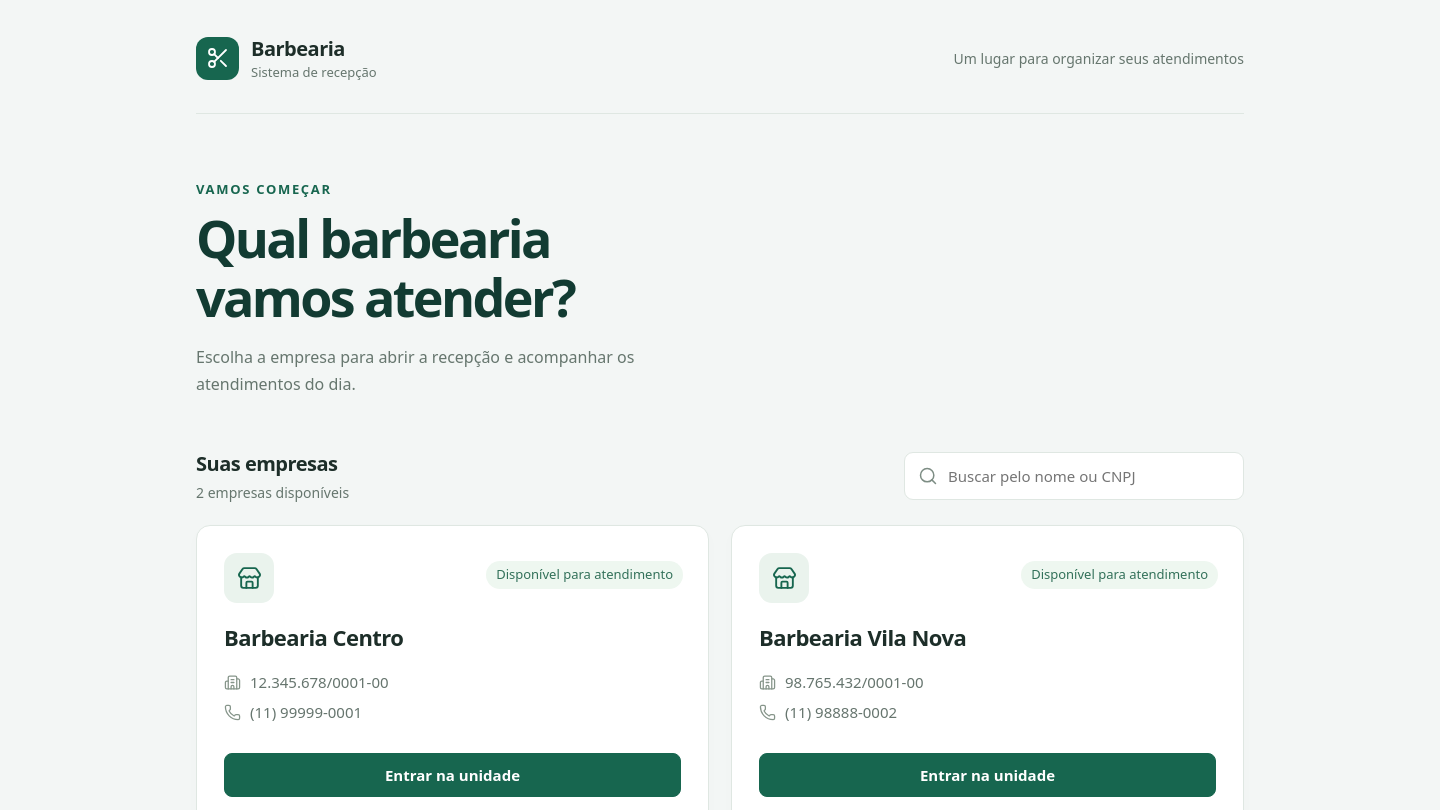
Test: Entrada e contexto de empresa › permite recuperar o painel após falha de leitura sem perder o filtro
Click the button with aria-label "Entrar na empresa Barbearia Centro".
click(452, 775)  # box [224, 753, 681, 797]
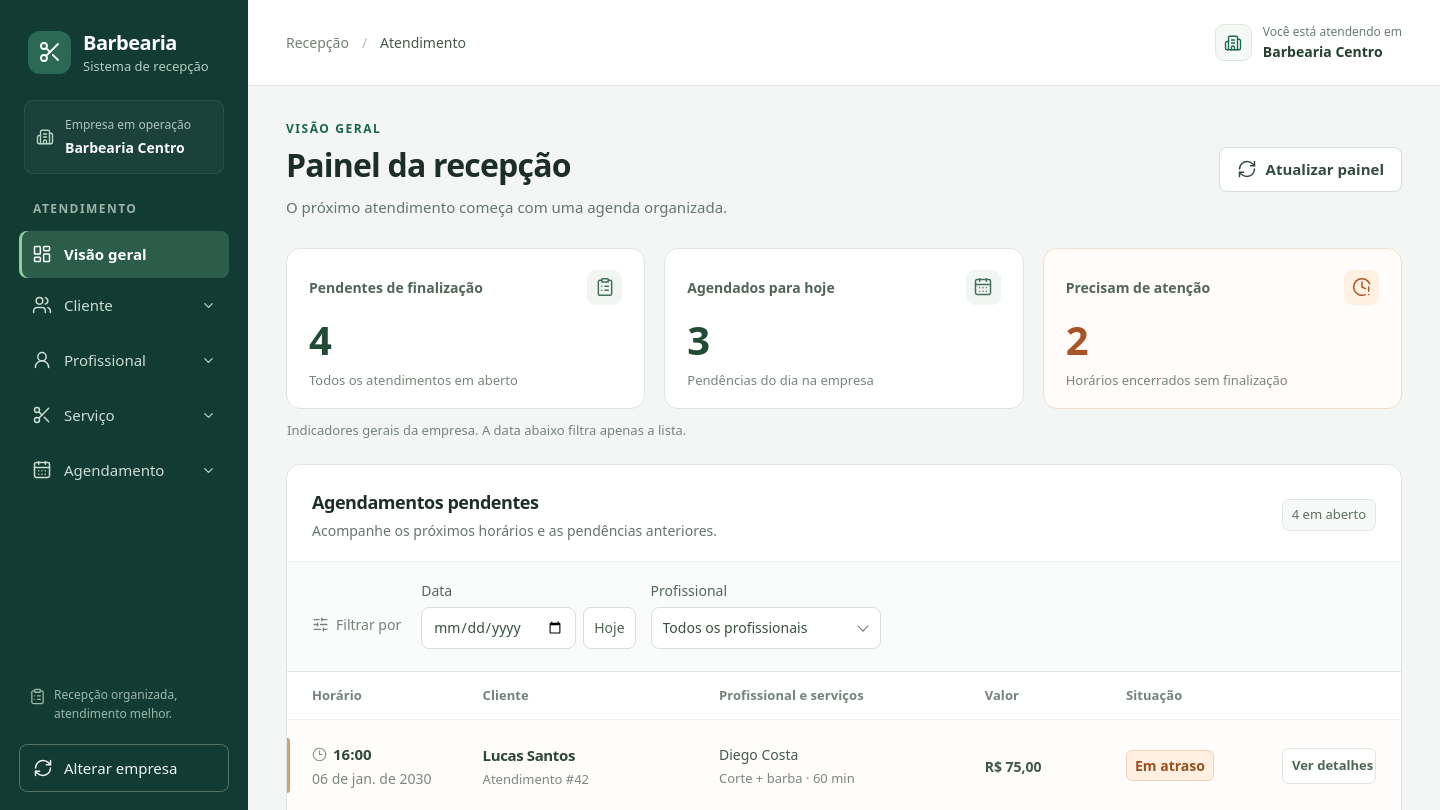
Click the button "Hoje".
click(609, 628)  # box [583, 607, 636, 649]
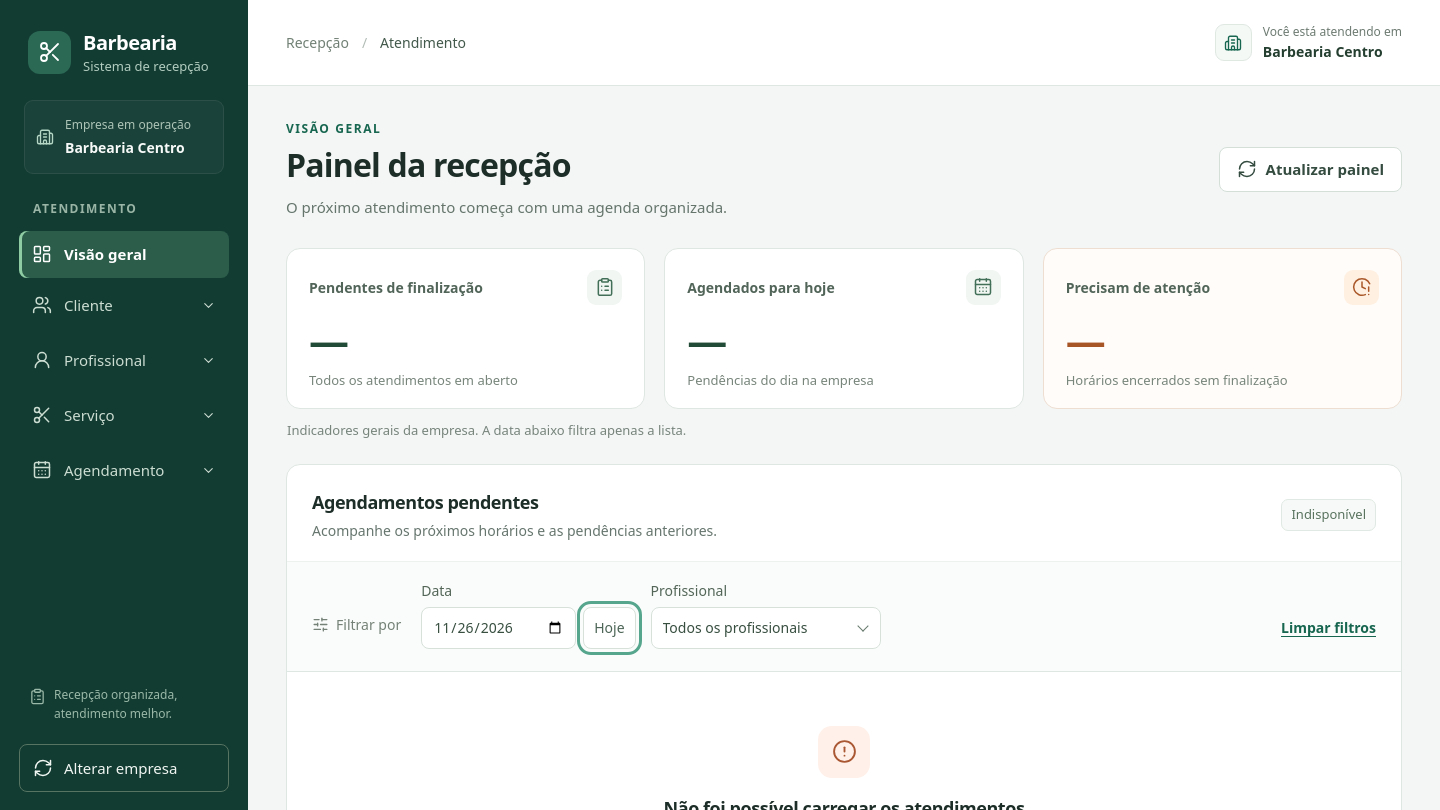
Result: the date field labelled "Data" is not empty at [421, 607, 576, 649]
